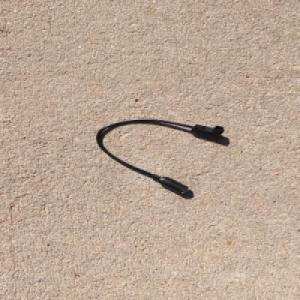Wire: (95, 117, 225, 195)
